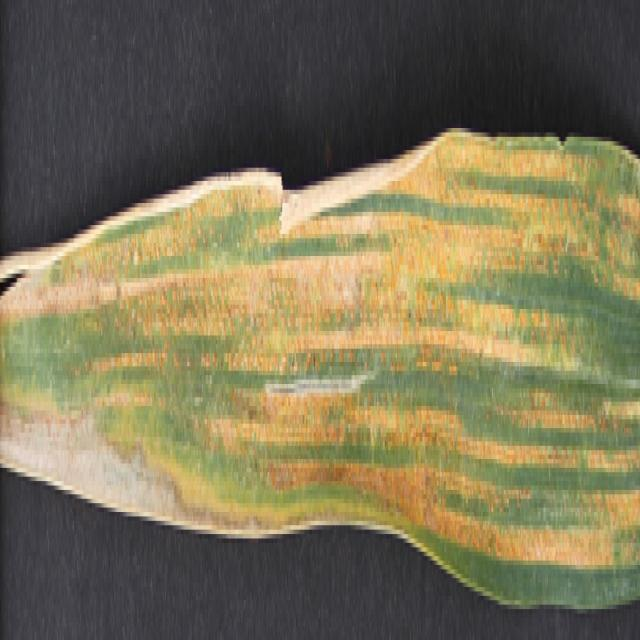leaf rust: (191, 120, 640, 570), (83, 225, 188, 411)
